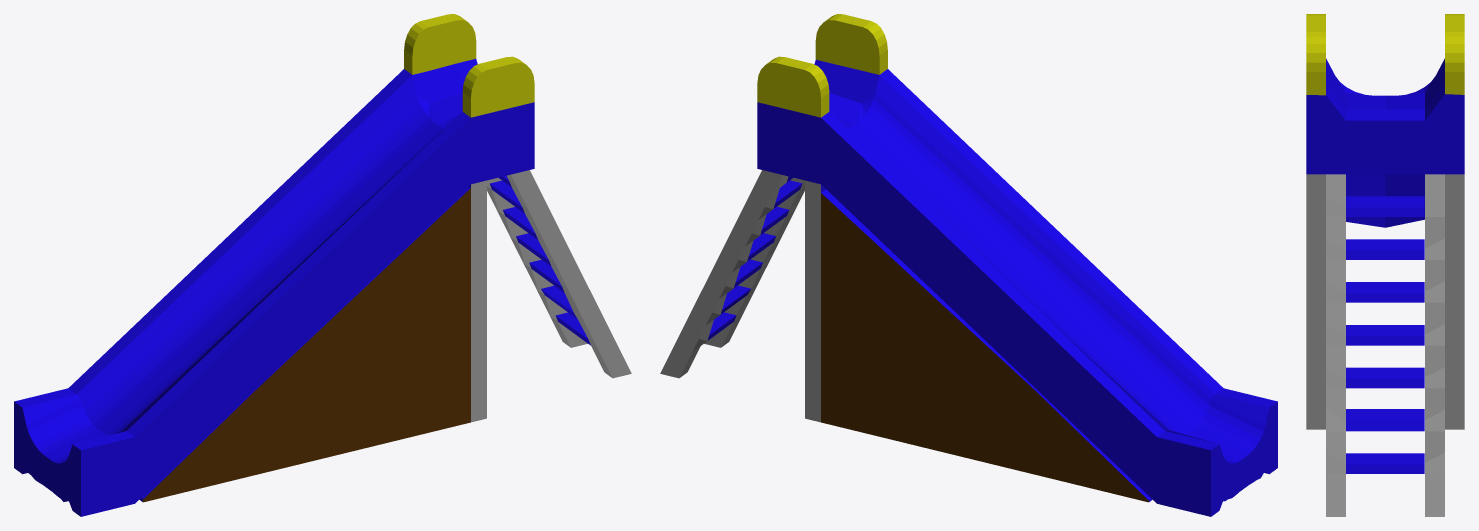
Rendered from glijbaan.fbx.
3 renders of one model, left to right at view 1: azimuth 30°, elevation 25°; view 2: azimuth 150°, elevation 25°; view 3: azimuth 270°, elevation 25°, orthographic. The views are drawn at different scales.
Parts seen in each view (by area): view 1: Cube; view 2: Cube; view 3: Cube.
Part boxes in pixels (<box>): Cube: <box>14,14,631,516</box>; Cube: <box>660,14,1277,516</box>; Cube: <box>1306,14,1464,516</box>.
Size of the model in its own units: 1774 by 1056 by 367.
